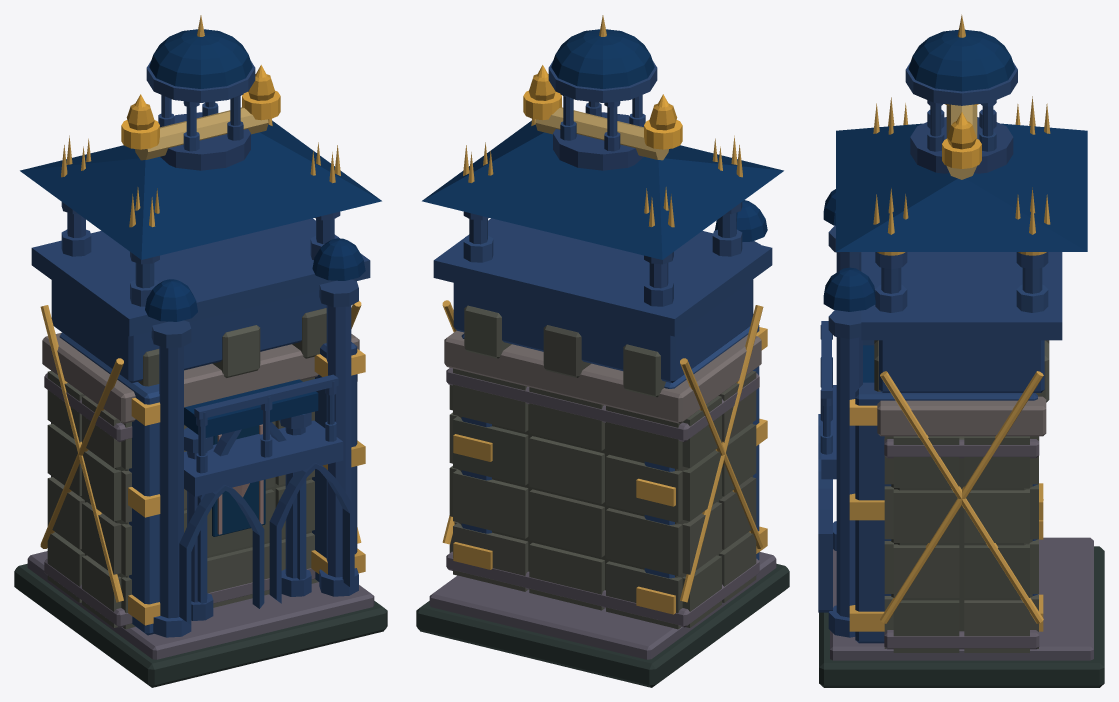
The picture shows the model from 3 angles, left to right: view 1: azimuth 30°, elevation 25°; view 2: azimuth 150°, elevation 25°; view 3: azimuth 270°, elevation 25°; orthographic projection. The views are drawn at different scales.
Visible parts, largest first — view 1: wall_L11_0, wall_L11_1; view 2: wall_L11_0, wall_L11_1; view 3: wall_L11_0, wall_L11_1.
Part boxes in pixels (x1,y1,x2,y2): wall_L11_0: (14, 29, 387, 687); wall_L11_1: (40, 15, 365, 625); wall_L11_0: (416, 29, 789, 687); wall_L11_1: (442, 15, 767, 614); wall_L11_0: (818, 29, 1104, 687); wall_L11_1: (849, 14, 1050, 631).
Size of the model in its own units: 1.9 by 4.43 by 1.87.
